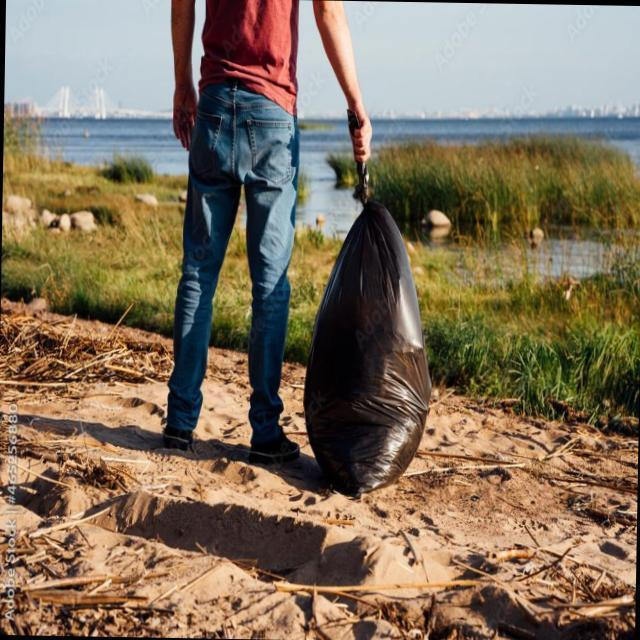Garbage_Bag: (300, 182, 438, 496)
